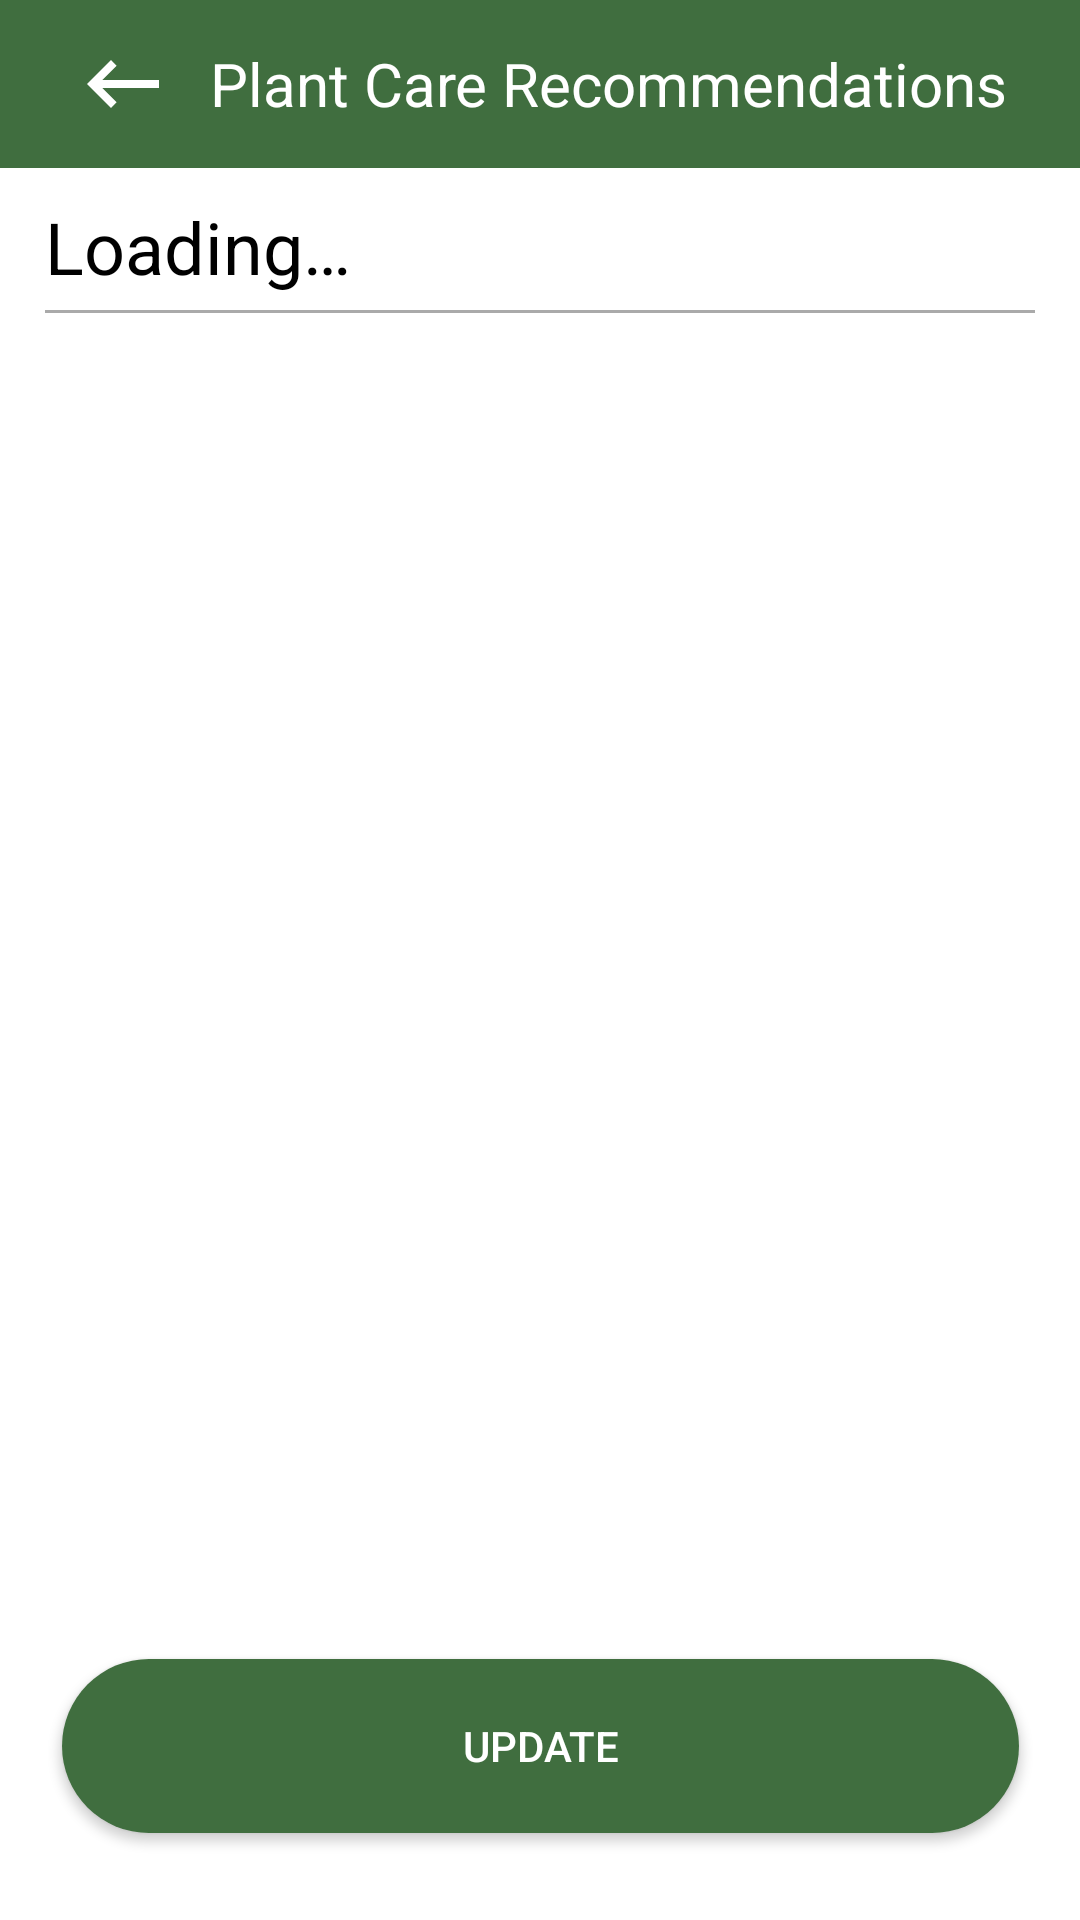

Screen size 1080x1920. Icon name, then its center in pixels as (x,y):
Back button: (123,84)
